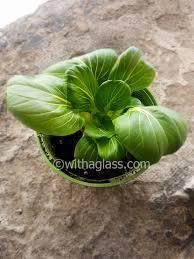Healthy-Pechay: (19, 43, 181, 157)
